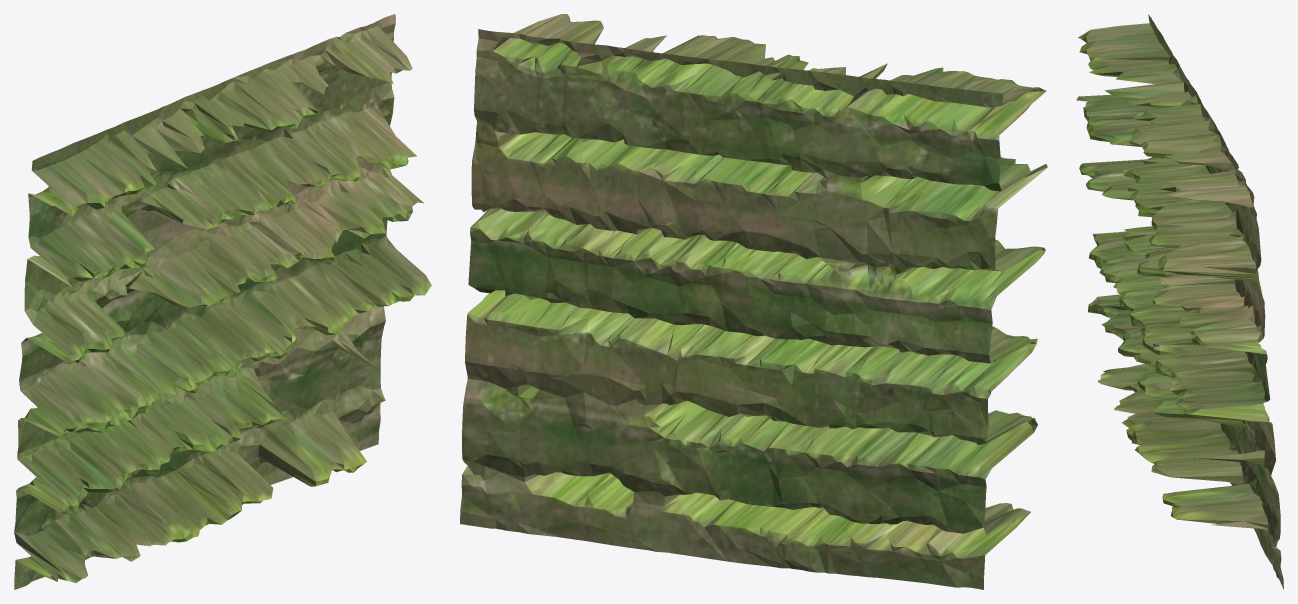
The model's file is map_200_20.obj.
3 views of the same model, side by side, from view 1: azimuth 30°, elevation 25°; view 2: azimuth 150°, elevation 25°; view 3: azimuth 270°, elevation 25° (orthographic). The views are drawn at different scales.
Parts seen in each view (by area): view 1: grp1; view 2: grp1; view 3: grp1.
Boxes of the visible parts, <box> form: grp1: <box>14,14,431,589</box>; grp1: <box>460,14,1047,589</box>; grp1: <box>1076,14,1283,589</box>.
Bounding box in the file's own units: 10 × 10 × 4.79.
1 material, 1 textured.
